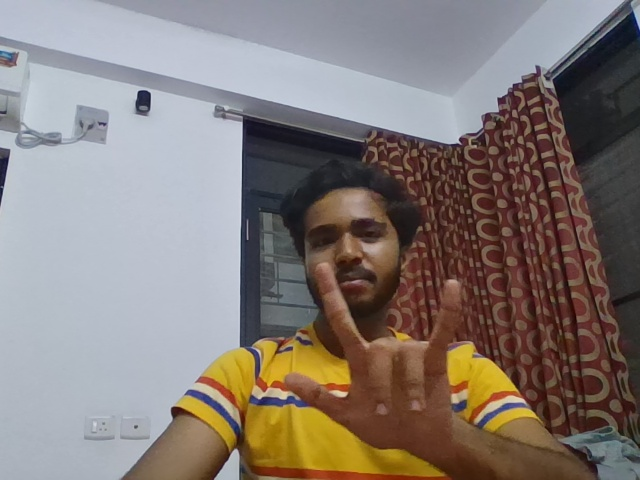I Love You: (276, 260, 471, 455)
